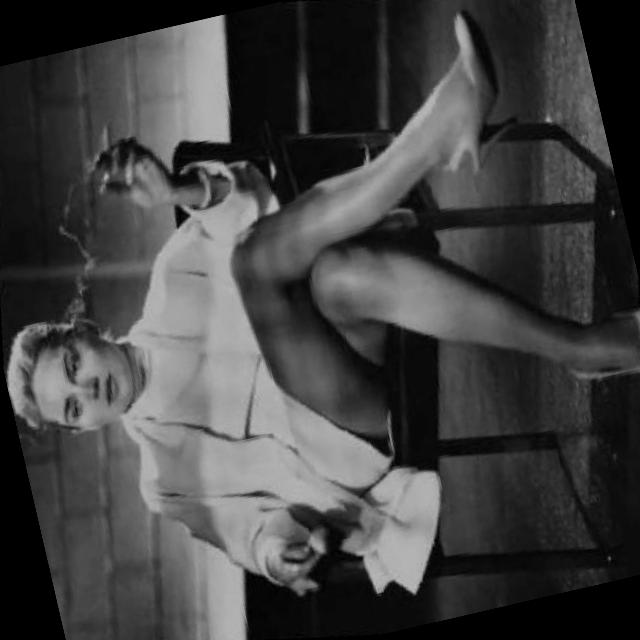smoke: (89, 120, 122, 188)
